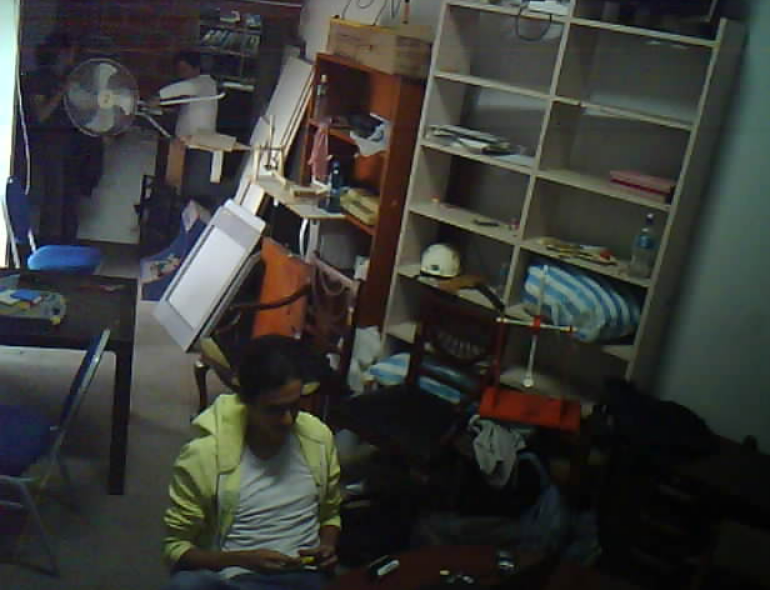person: (137, 321, 356, 590), (135, 34, 240, 281), (11, 4, 106, 248)
